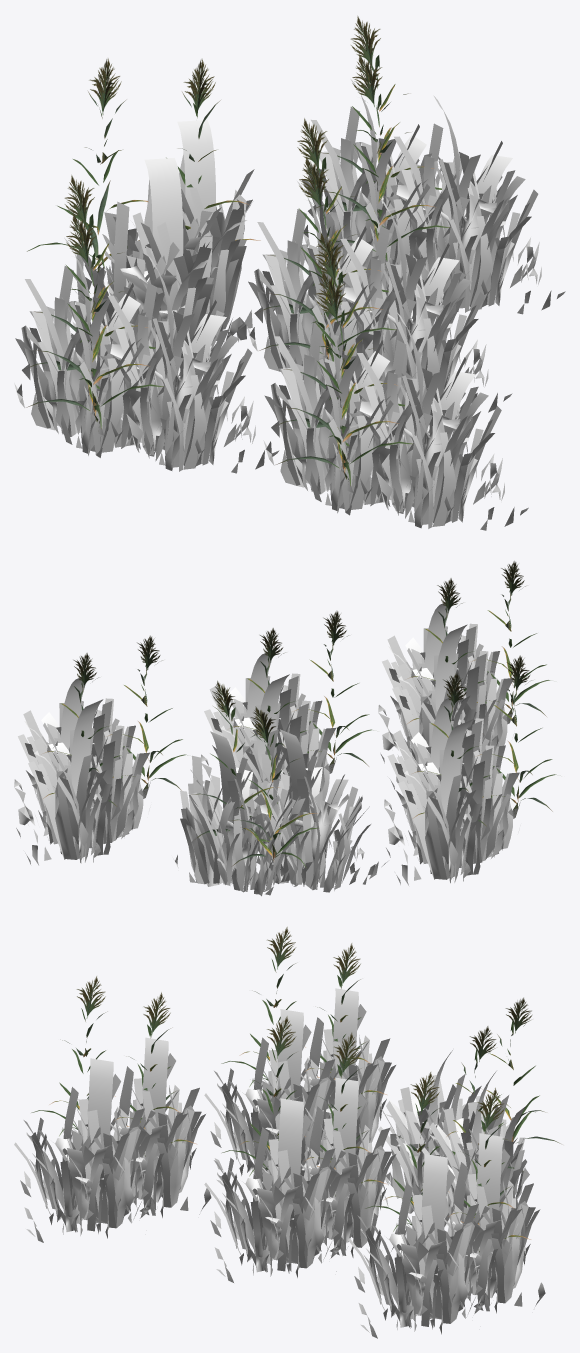
File: grass_singular.glb
3 renders of one model, top to bottom at view 1: azimuth 30°, elevation 25°; view 2: azimuth 150°, elevation 25°; view 3: azimuth 270°, elevation 25°, orthographic. The views are drawn at different scales.
Parts seen in each view (by area): view 1: grass var.001; view 2: grass var.001; view 3: grass var.001.
Boxes of the visible parts, x1=… form: grass var.001: x1=14, y1=16, x2=565, y2=530; grass var.001: x1=14, y1=561, x2=556, y2=896; grass var.001: x1=14, y1=927, x2=560, y2=1338.
Bounding box in the file's own units: 3.2 × 1.39 × 3.27.
4 materials, 2 textured.
